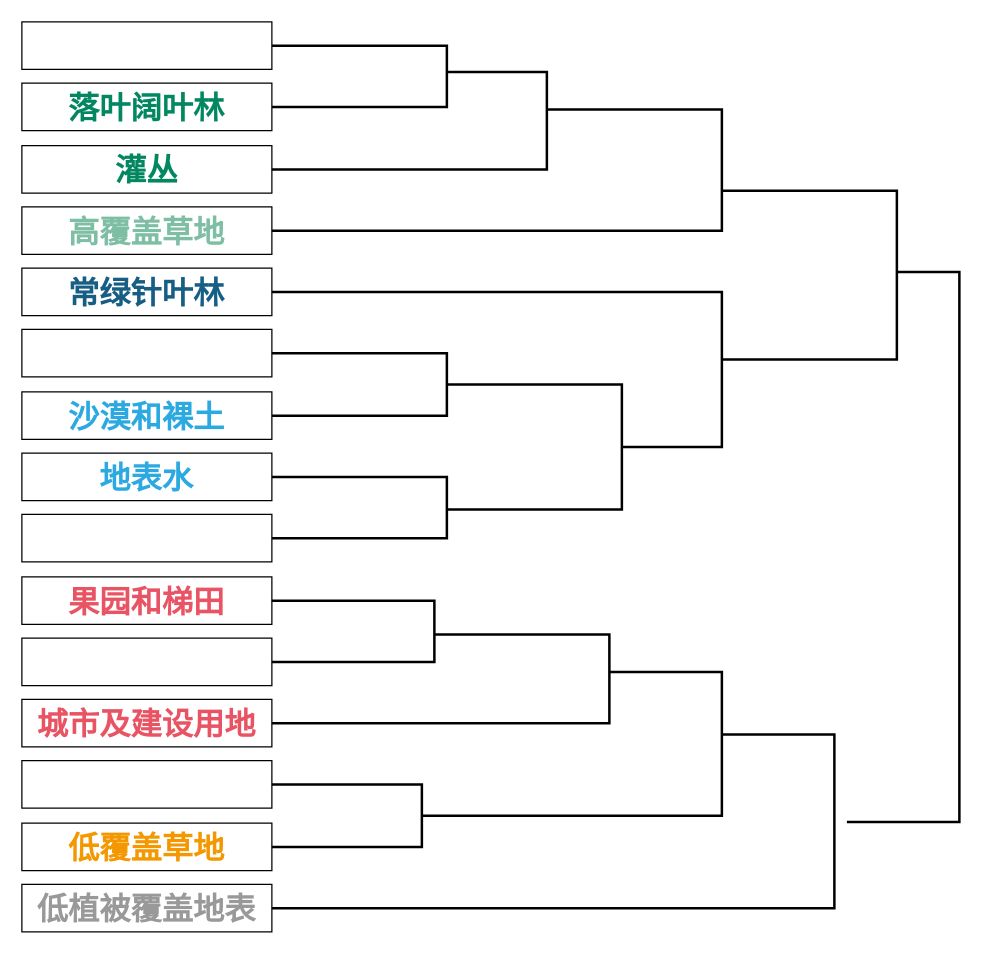
Some shapes in this 984 by 954 pixel diagram are drawn without their labels. Here are the shapes that lost their labels. From the top down, the box of each, then its label:
(21, 21, 272, 69): 落叶常绿混交林
(21, 328, 272, 377): 积雪和冰
(21, 513, 272, 562): 湿地
(21, 637, 272, 686): 谷物耕地
(21, 759, 272, 808): 中覆盖草地
